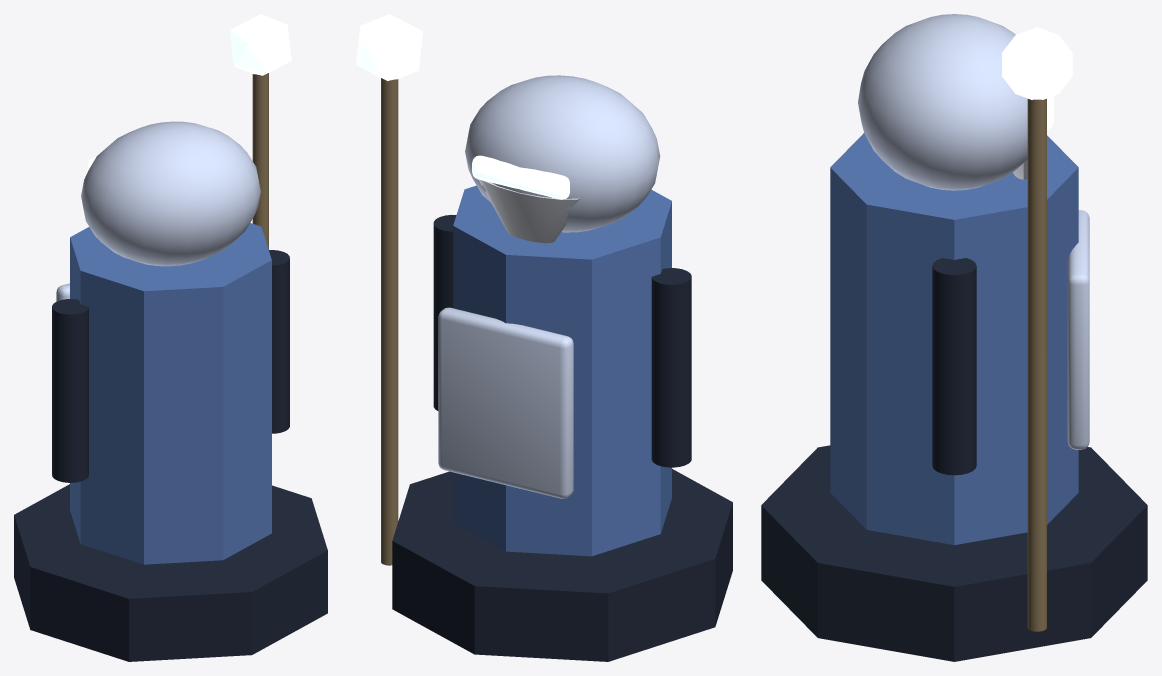
File: npc_archivist.glb
3 renders of one model, left to right at view 1: azimuth 30°, elevation 25°; view 2: azimuth 150°, elevation 25°; view 3: azimuth 270°, elevation 25°, orthographic. The views are drawn at different scales.
Parts seen in each view (by area): view 1: Torso, Pedestal, Head, ArmL, ArmR, Gem, Staff; view 2: Torso, Pedestal, Scroll, Head, Staff, ArmL, Gem, Beard, ArmR, Eye; view 3: Torso, Pedestal, Head, Staff, ArmR, Scroll, Gem.
Part boxes in pixels (x1=…): Torso: x1=70, y1=223, x2=271, y2=564; Pedestal: x1=14, y1=484, x2=327, y2=661; Head: x1=81, y1=121, x2=260, y2=266; ArmL: x1=52, y1=299, x2=88, y2=482; ArmR: x1=269, y1=250, x2=289, y2=433; Gem: x1=230, y1=14, x2=291, y2=75; Staff: x1=252, y1=73, x2=268, y2=249; Torso: x1=453, y1=185, x2=671, y2=556; Pedestal: x1=392, y1=469, x2=732, y2=661; Scroll: x1=438, y1=307, x2=573, y2=498; Head: x1=465, y1=75, x2=660, y2=232; Staff: x1=381, y1=78, x2=398, y2=565; ArmL: x1=651, y1=268, x2=691, y2=467; Gem: x1=356, y1=14, x2=423, y2=80; Beard: x1=479, y1=179, x2=580, y2=243; ArmR: x1=433, y1=214, x2=456, y2=410; Eye: x1=472, y1=155, x2=569, y2=199; Torso: x1=830, y1=133, x2=1078, y2=545; Pedestal: x1=761, y1=445, x2=1147, y2=661; Head: x1=858, y1=14, x2=1027, y2=190; Staff: x1=1027, y1=98, x2=1046, y2=631; ArmR: x1=932, y1=258, x2=976, y2=475; Scroll: x1=1067, y1=210, x2=1089, y2=449; Gem: x1=1002, y1=27, x2=1072, y2=99.
Size of the model in its own units: 1.45 by 2.5 by 1.4.
